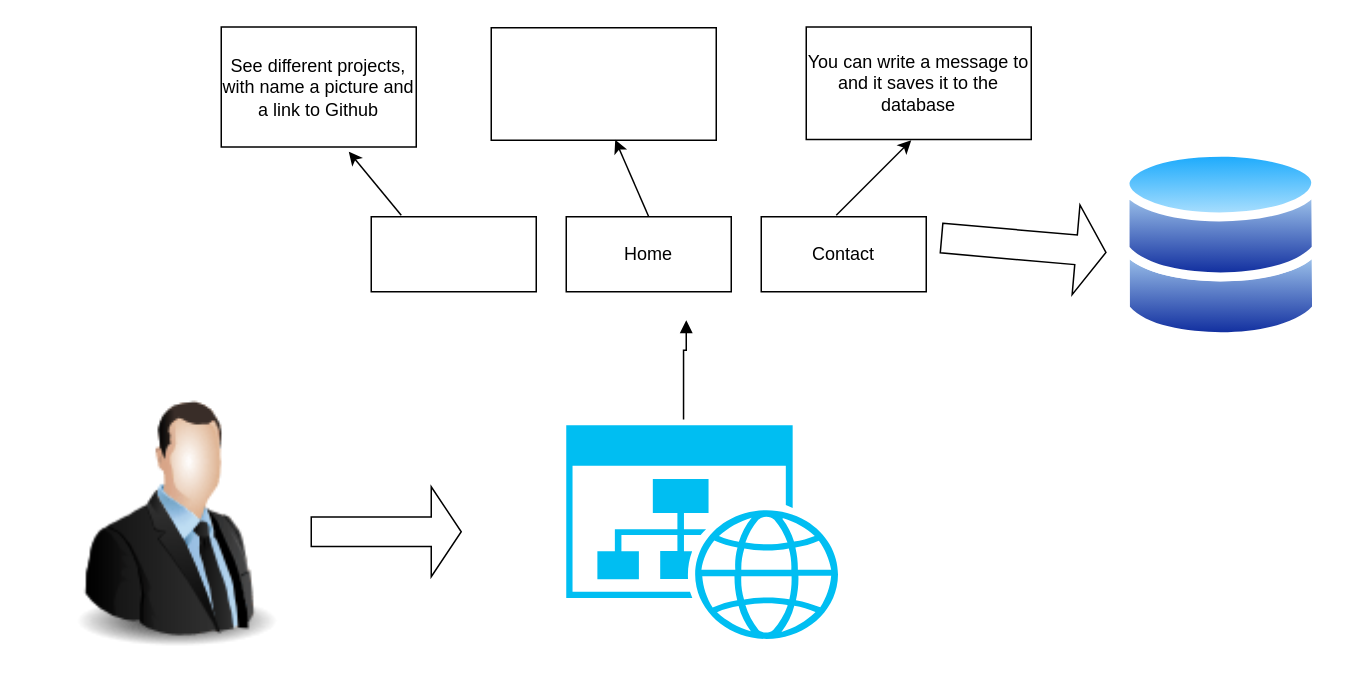
The diagram is 1347 pixels wide and 675 high, and some of its shapes have lost their labels. Each missing label, with the box of its shape:
Projects: (370, 215, 536, 292)
You can see something about who I am and what technologies I am capable of: (490, 26, 716, 140)
